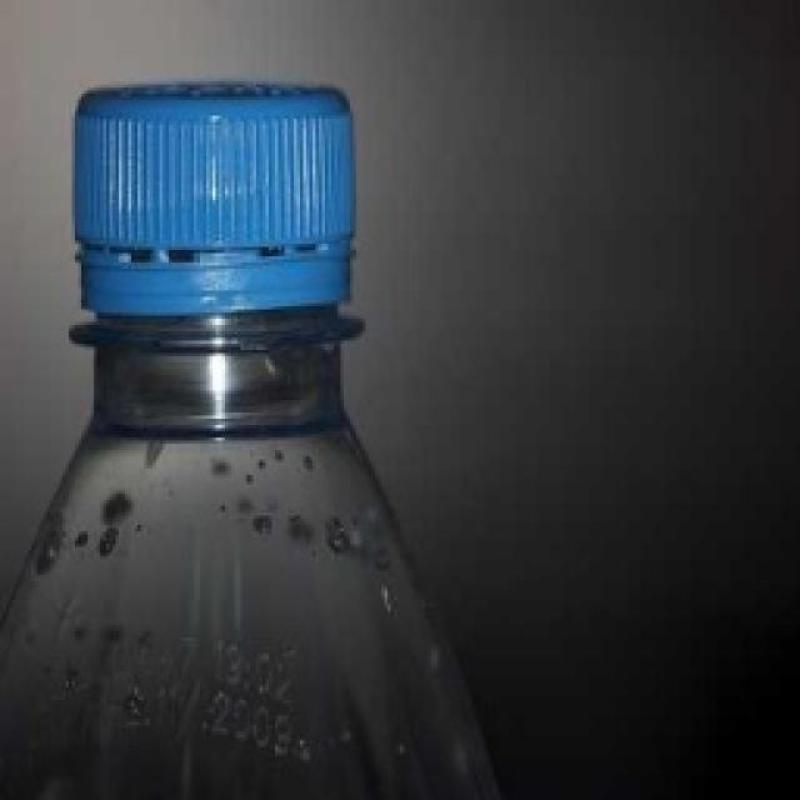botella: (0, 84, 494, 800)
